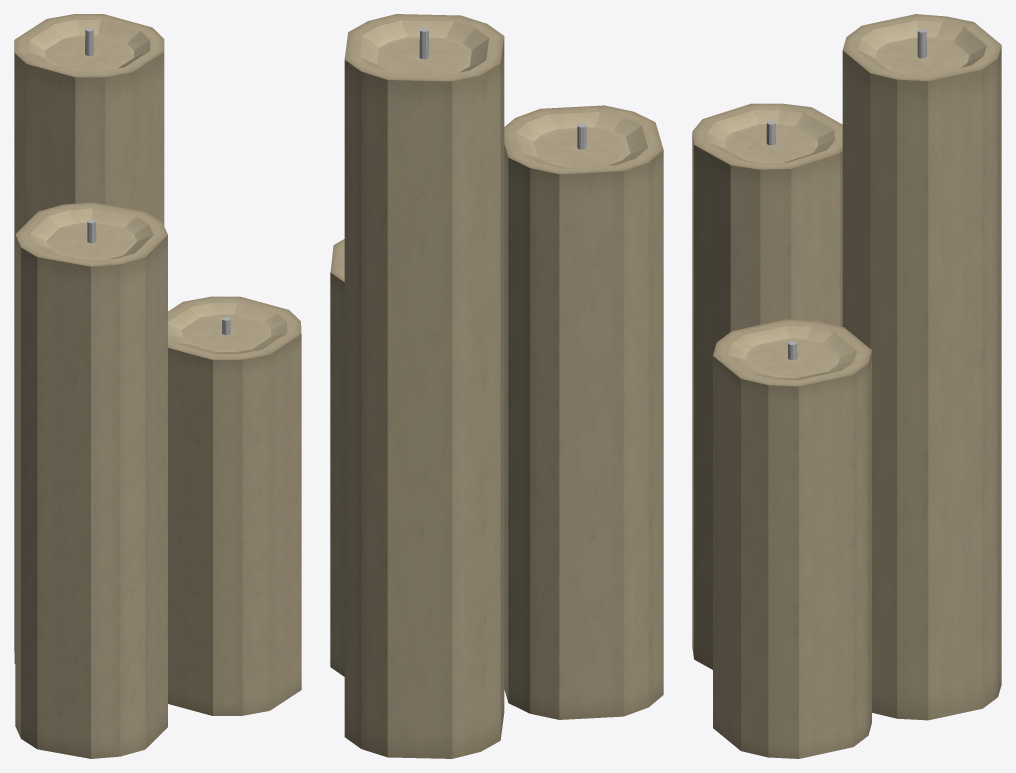
The model's file is CandleTrio.fbx.
3 views of the same model, side by side, from view 1: azimuth 30°, elevation 25°; view 2: azimuth 150°, elevation 25°; view 3: azimuth 270°, elevation 25° (orthographic). The views are drawn at different scales.
Visible parts, largest first — view 1: Vela3 3.002; view 2: Vela3 3.002; view 3: Vela3 3.002.
Boxes of the visible parts, box(x1,y1,x2,y2) form: Vela3 3.002: box(14, 14, 301, 758); Vela3 3.002: box(330, 14, 663, 758); Vela3 3.002: box(692, 14, 1001, 758).
Bounding box in the file's own units: 103 × 224 × 95.77.
